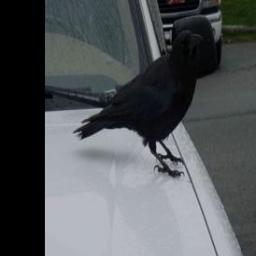Crow: (74, 28, 202, 180)
